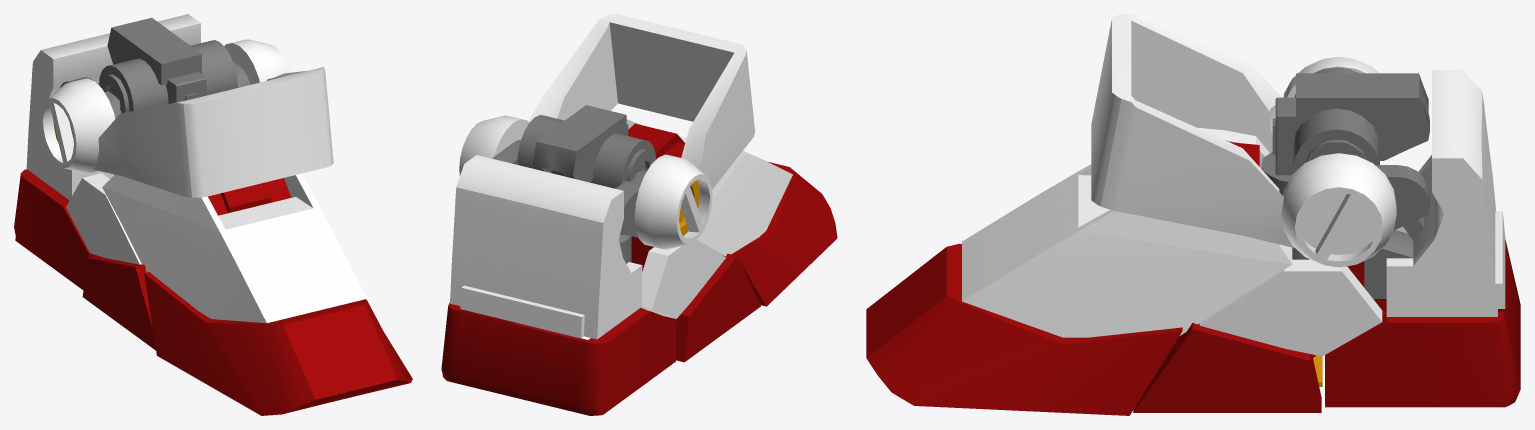
Rendered from rightfoot.obj.
3 renders of one model, left to right at view 1: azimuth 30°, elevation 25°; view 2: azimuth 150°, elevation 25°; view 3: azimuth 270°, elevation 25°, orthographic. The views are drawn at different scales.
Parts seen in each view (by area): view 1: rightfoot; view 2: rightfoot; view 3: rightfoot.
Boxes of the visible parts, box(x1,y1,x2,y2) form: rightfoot: box(14, 14, 412, 415); rightfoot: box(441, 14, 837, 415); rightfoot: box(866, 14, 1520, 415).
Size of the model in its own units: 3.97 by 4.35 by 8.42.
